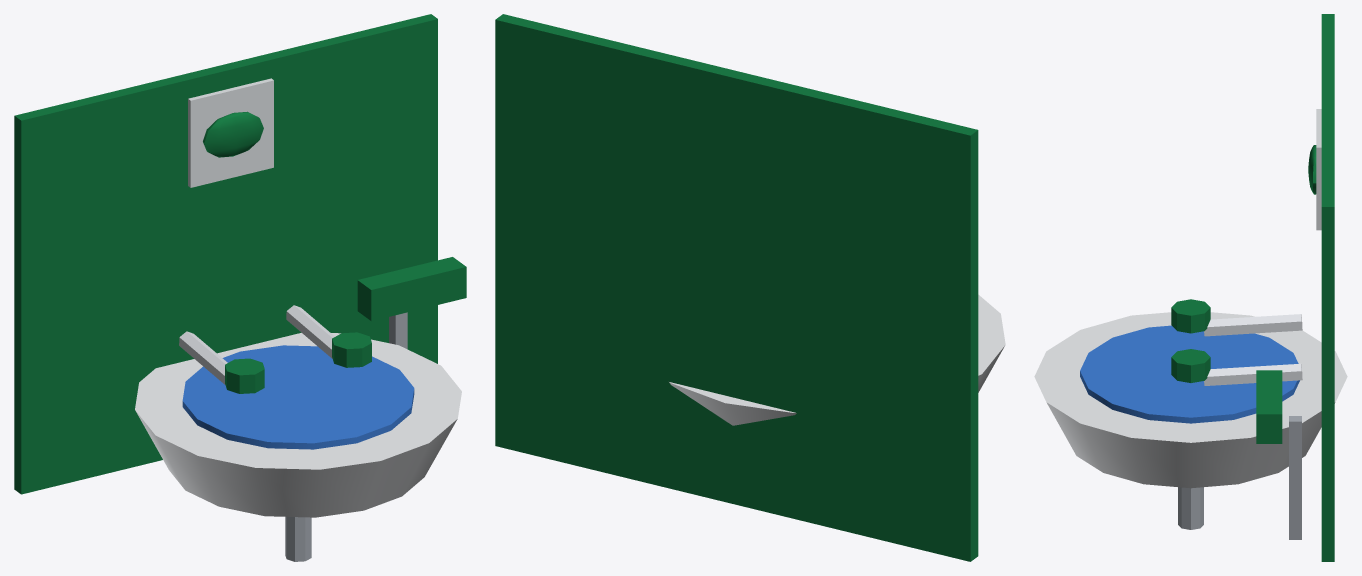
The model's file is safety_eye_wash_station.glb.
3 views of the same model, side by side, from view 1: azimuth 30°, elevation 25°; view 2: azimuth 150°, elevation 25°; view 3: azimuth 270°, elevation 25° (orthographic). The views are drawn at different scales.
Parts seen in each view (by area): view 1: safety_eye_wash_station; view 2: safety_eye_wash_station; view 3: safety_eye_wash_station.
Boxes of the visible parts, x1,y1,x2,y2 form: safety_eye_wash_station: (14, 14, 466, 561); safety_eye_wash_station: (495, 14, 1005, 561); safety_eye_wash_station: (1034, 14, 1347, 561).
Bounding box in the file's own units: 0.7 × 0.7 × 0.48.
